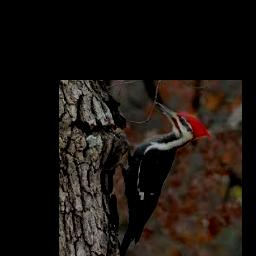Woodpecker: (118, 102, 212, 256)
